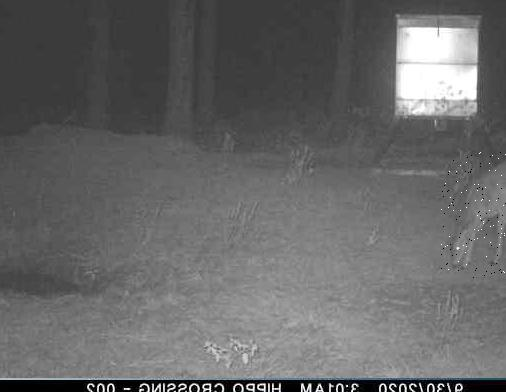Deer: (441, 152, 506, 279)
